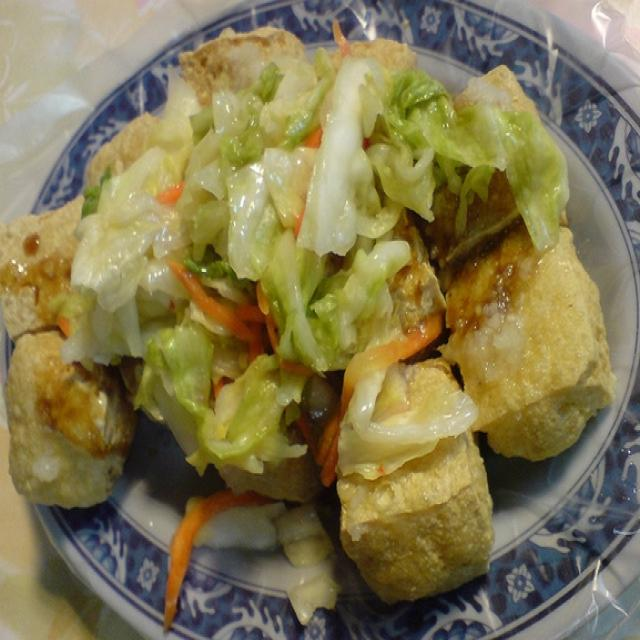豆腐料理: (3, 8, 629, 628)
